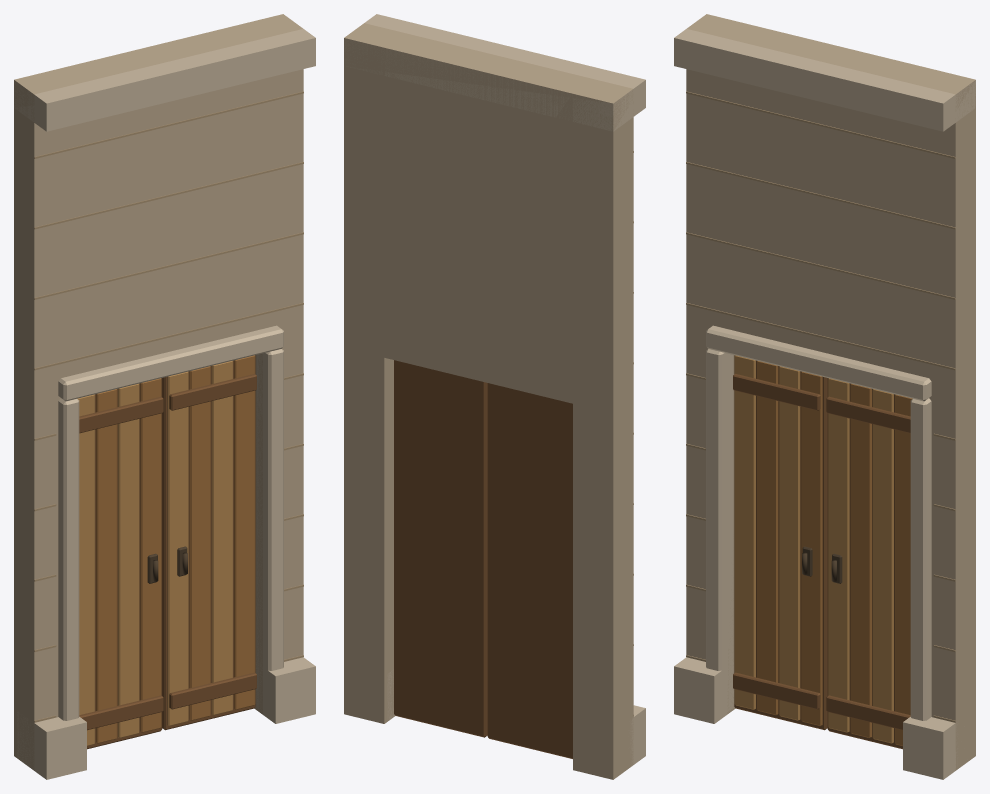
The model's file is wall_door_2m.glb.
3 views of the same model, side by side, from view 1: azimuth 30°, elevation 25°; view 2: azimuth 150°, elevation 25°; view 3: azimuth 330°, elevation 25° (orthographic).
Parts seen in each view (by area): view 1: wall_door_2m; view 2: wall_door_2m; view 3: wall_door_2m.
Boxes of the visible parts, x1=… form: wall_door_2m: x1=14, y1=14, x2=315, y2=779; wall_door_2m: x1=344, y1=14, x2=645, y2=779; wall_door_2m: x1=674, y1=14, x2=975, y2=779.
Size of the model in its own units: 2 by 4.8 by 0.42.
